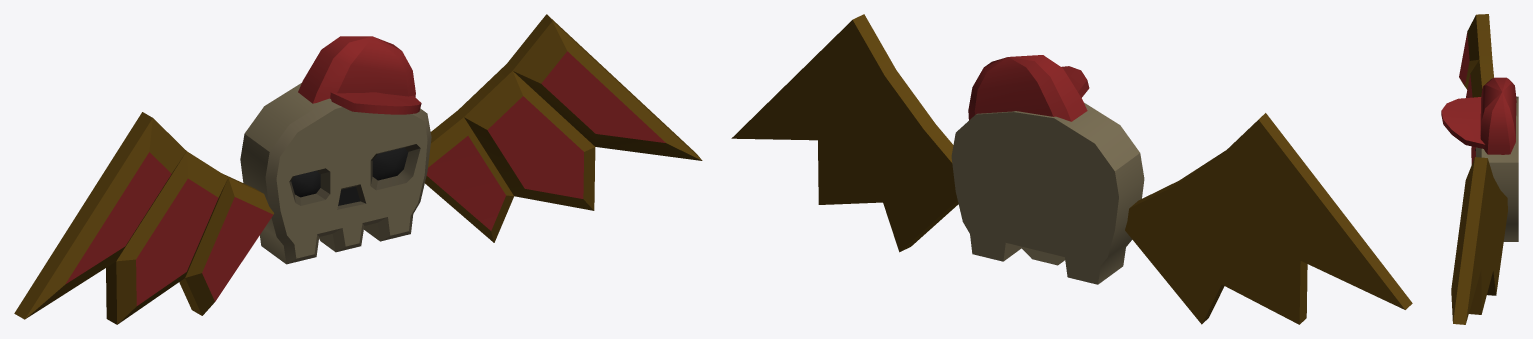
File: ally_01.fbx
3 views of the same model, side by side, from view 1: azimuth 30°, elevation 25°; view 2: azimuth 150°, elevation 25°; view 3: azimuth 270°, elevation 25° (orthographic). The views are drawn at different scales.
Visible parts, largest first — view 1: ally_01_mesh; view 2: ally_01_mesh; view 3: ally_01_mesh.
Part boxes in pixels (x1=…): ally_01_mesh: x1=14, y1=14, x2=702, y2=324; ally_01_mesh: x1=731, y1=14, x2=1412, y2=324; ally_01_mesh: x1=1441, y1=14, x2=1518, y2=324.
Size of the model in its own units: 2.33 by 0.7543 by 0.3138.
